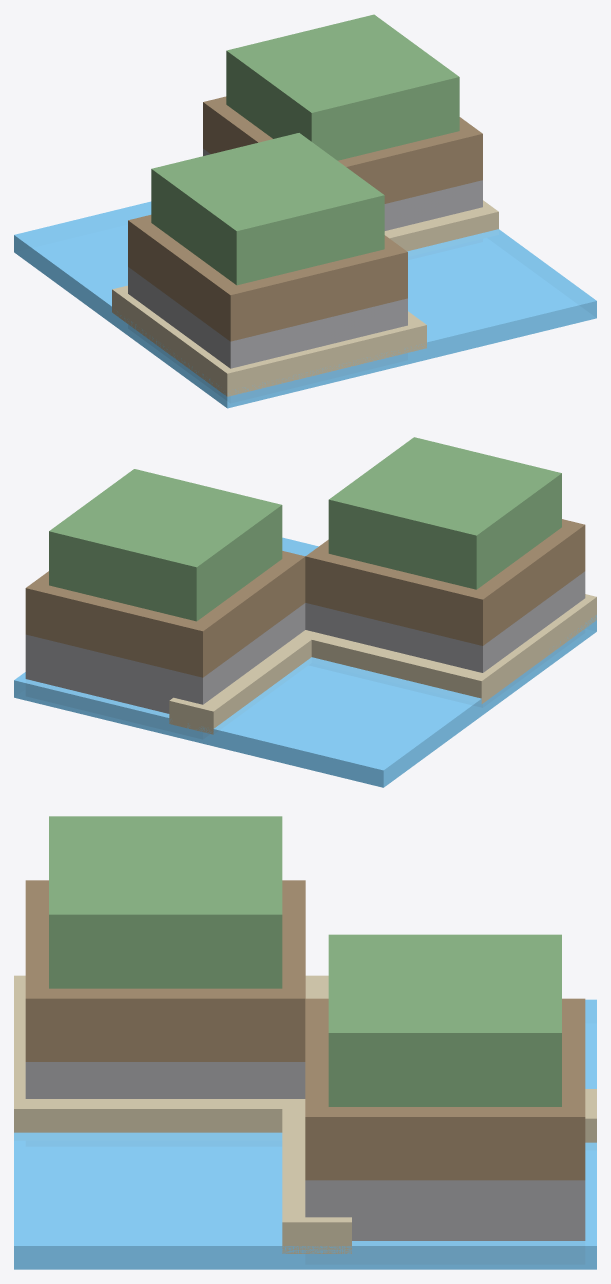
File: craft_dual_Diagonal.glb
3 renders of one model, top to bottom at view 1: azimuth 30°, elevation 25°; view 2: azimuth 150°, elevation 25°; view 3: azimuth 270°, elevation 25°, orthographic. The views are drawn at different scales.
Visible parts, largest first — view 1: craft_dual_Diagonal; view 2: craft_dual_Diagonal; view 3: craft_dual_Diagonal.
Part boxes in pixels (box(x1,y1,x2,y2)): craft_dual_Diagonal: box(14, 14, 596, 408); craft_dual_Diagonal: box(14, 437, 596, 787); craft_dual_Diagonal: box(14, 816, 596, 1269).
Size of the model in its own units: 1 by 0.42 by 1.
